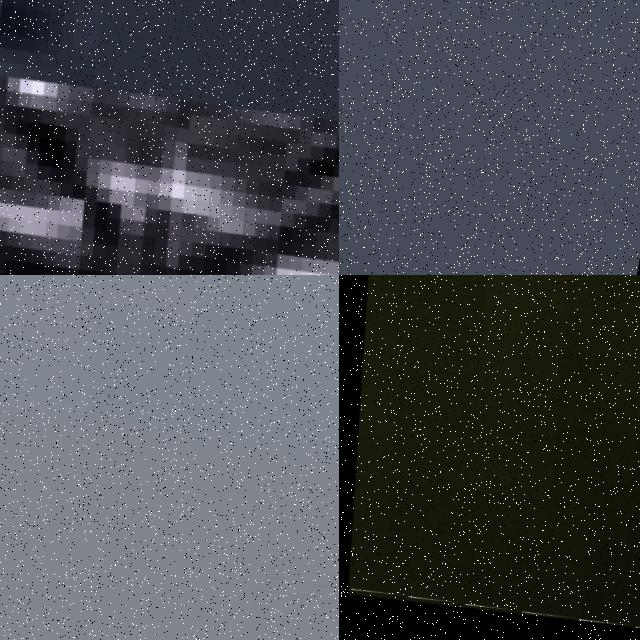drone: (339, 275, 640, 640), (0, 0, 339, 275)
